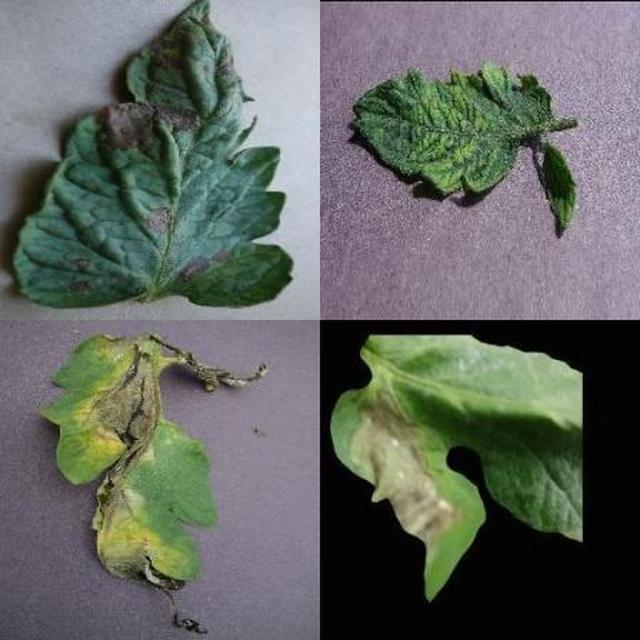Early Blight Leaf: (53, 121, 640, 640)
